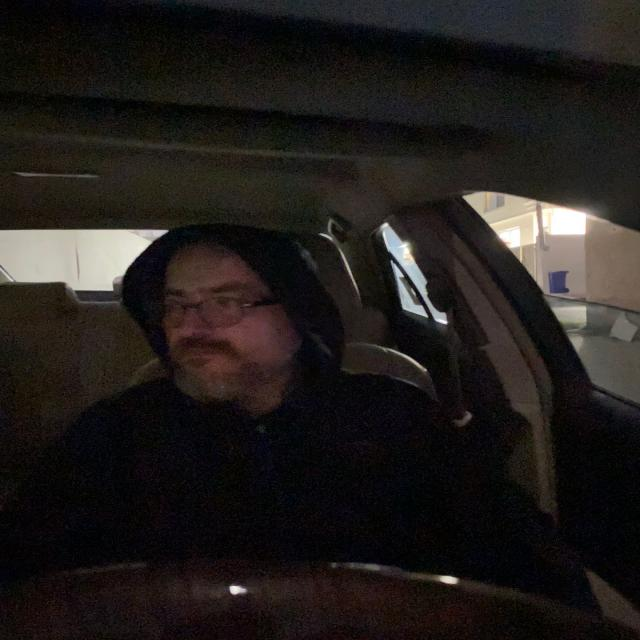person: (116, 216, 355, 420)
